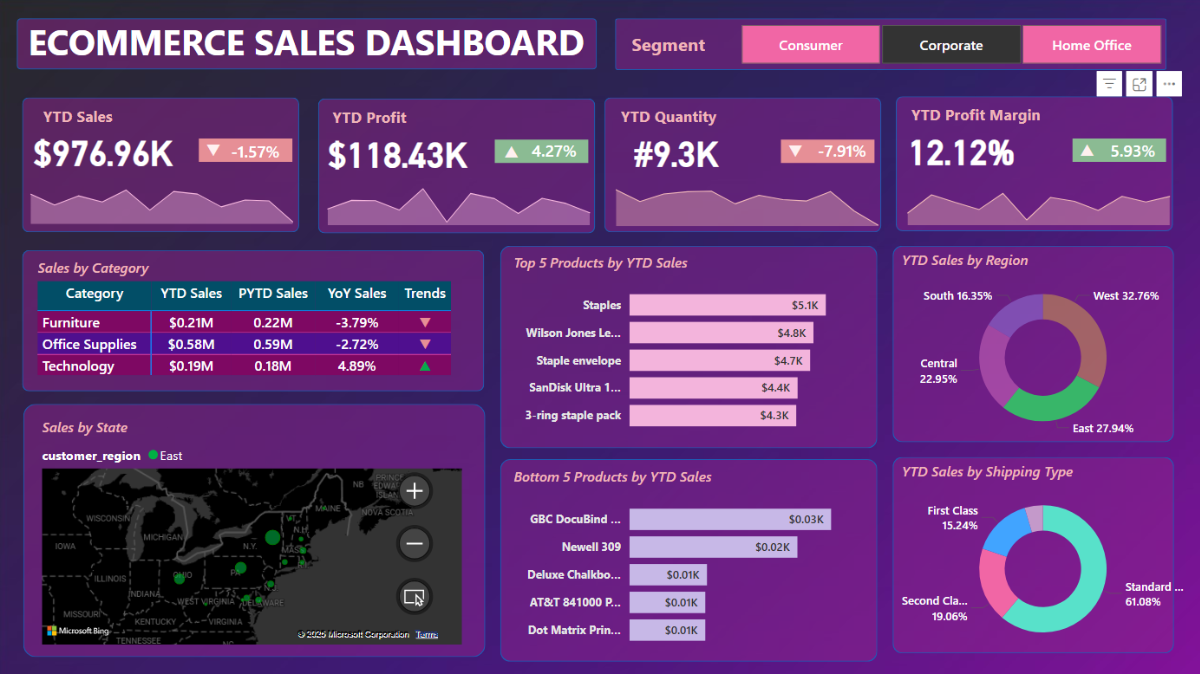

The page's visual inventory and layout, read from the dashboard file:
{"tool":"powerbi","page":{"name":"Page 1","canvas":[1280,720],"ordinal":0},"visuals":[{"type":"shape","box":[24.4,19.8,615.1,54.7],"z":0},{"type":"shape","box":[29.4,103.1,294.5,143.6],"z":1000},{"type":"card","fields":{"Values":["ecommerce_data.YTD Sales"]},"box":[24.5,135,182.8,50.3],"z":2000},{"type":"areaChart","fields":{"Category":["Calendar.Date.Variation.Date Hierarchy.Month"],"Y":["Sum(ecommerce_data.sales_per_order)"]},"box":[24.5,179.1,308,63.8],"z":3000},{"type":"shape","box":[217.2,147.2,99.4,24.5],"z":4000},{"type":"card","fields":{"Values":["ecommerce_data.YoY Sales"]},"box":[227,137.4,101.8,50.3],"z":5000},{"type":"card","fields":{"Values":["ecommerce_data.Sales Icon"]},"box":[214.7,136,35.6,50.3],"z":6000},{"type":"shape","box":[343.5,104.6,294.5,143.6],"z":7000},{"type":"card","fields":{"Values":["ecommerce_data.YTD Profit"]},"box":[336.2,136.2,182.5,50],"z":8000},{"type":"areaChart","fields":{"Category":["Calendar.Date.Variation.Date Hierarchy.Month"],"Y":["Sum(ecommerce_data.profit_per_order)"]},"box":[338.6,180.7,308,63.8],"z":9000},{"type":"shape","box":[531.3,148.8,99.4,24.5],"z":10000},{"type":"card","fields":{"Values":["ecommerce_data.YoY Profit"]},"box":[558.8,146.2,71.2,32.5],"z":11000},{"type":"card","fields":{"Values":["ecommerce_data.Profit Icon"]},"box":[531.1,147.9,35.7,28.6],"z":12000},{"type":"textbox","box":[363.1,109.2,139.9,29.4],"z":13000},{"type":"textbox","box":[30.7,13.5,609.8,66.3],"z":14000},{"type":"textbox","box":[46.6,106.7,99.4,39.3],"z":15000},{"type":"textbox","box":[354.5,108,108,39.3],"z":16000},{"type":"shape","box":[647.2,103.8,294.5,143.6],"z":17000},{"type":"card","fields":{"Values":["ecommerce_data.YTD Concateneted Qty"]},"box":[632.6,135.4,182.8,50.3],"z":18000},{"type":"shape","box":[835,147.9,99.4,24.5],"z":19000},{"type":"card","fields":{"Values":["ecommerce_data.YoY Qty"]},"box":[854.7,140.3,88.3,44.2],"z":20000},{"type":"card","fields":{"Values":["ecommerce_data.Qty Icon"]},"box":[832.5,136.7,35.6,50.3],"z":21000},{"type":"textbox","box":[659.6,107.2,130.1,39.3],"z":22000},{"type":"areaChart","fields":{"Category":["Calendar.Date.Variation.Date Hierarchy.Month"],"Y":["Sum(ecommerce_data.order_quantity)"]},"box":[644.9,182.1,308,63.8],"z":23000},{"type":"shape","box":[956,102.5,294.5,143.6],"z":24000},{"type":"card","fields":{"Values":["ecommerce_data.YTD Profit Margin"]},"box":[935,133.8,182.5,51.2],"z":25000},{"type":"shape","box":[1143.7,146.7,99.4,24.5],"z":26000},{"type":"card","fields":{"Values":["ecommerce_data.YoY Profit Margin"]},"box":[1163,140,89,44],"z":27000},{"type":"card","fields":{"Values":["ecommerce_data.Profit Margin Icon"]},"box":[1141.3,135.4,35.6,50.3],"z":28000},{"type":"textbox","box":[967.8,105.6,156.7,40],"z":29000},{"type":"areaChart","fields":{"Category":["Calendar.Date.Variation.Date Hierarchy.Month"],"Y":["ecommerce_data.Profit Margin"]},"box":[953.6,180.8,308,63.8],"z":30000},{"type":"shape","box":[30,265,490,150],"z":31000},{"type":"pivotTable","title":"Sales by Category","fields":{"Rows":["ecommerce_data.category_name"],"Values":["ecommerce_data.YTD Sales","ecommerce_data.PYTD Sales","ecommerce_data.YoY Sales","ecommerce_data.Sales Icon"]},"box":[41.2,273.8,463.8,130],"z":32000},{"type":"shape","box":[31.2,428.8,490,268.8],"z":33000},{"type":"map","title":"Sales by State","fields":{"Y":["us_state_long_lat_codes.latitude"],"X":["us_state_long_lat_codes.longitude"],"Size":["ecommerce_data.YTD Sales"],"Series":["ecommerce_data.customer_region"]},"box":[46.2,442.5,455,246.2],"z":34000},{"type":"shape","box":[537.2,261.2,400,215],"z":35000},{"type":"shape","box":[537.1,487.5,400,215],"z":36000},{"type":"barChart","title":"Top 5 Products by YTD Sales","fields":{"Category":["ecommerce_data.product_name"],"Y":["ecommerce_data.YTD Sales"]},"box":[546,267.5,385,202.5],"z":37000},{"type":"barChart","title":"Bottom 5 Products by YTD Sales","fields":{"Category":["ecommerce_data.product_name"],"Y":["ecommerce_data.YTD Sales"]},"box":[545.8,495,385,202.5],"z":38000},{"type":"shape","box":[952.5,261.2,298.8,208.8],"z":38001},{"type":"shape","box":[952.5,485,298.8,208.8],"z":38002},{"type":"donutChart","title":"YTD Sales by Region","fields":{"Category":["ecommerce_data.customer_region"],"Y":["ecommerce_data.YTD Sales"]},"box":[957.5,265,310,208.8],"z":38003},{"type":"donutChart","title":"YTD Sales by Shipping Type","fields":{"Y":["ecommerce_data.YTD Sales"],"Category":["ecommerce_data.shipping_type"]},"box":[957.5,490,310,208.8],"z":38004},{"type":"shape","box":[658.8,20,585,55],"z":38005},{"type":"slicer","fields":{"Values":["ecommerce_data.customer_segment"]},"box":[766.2,20,495,55],"z":38006},{"type":"textbox","box":[671.2,30,107.5,40],"z":38007}]}

Visuals, with their boxes in screenshot pixels (x1, y1, x2, y2), scaled from the page's 1280x720 canvas onto the 1200x675 screenshot:
shape: <bbox>23, 19, 600, 70</bbox>
shape: <bbox>28, 97, 304, 231</bbox>
card - ecommerce_data.YTD Sales: <bbox>23, 127, 194, 174</bbox>
areaChart - Calendar.Date.Variation.Date Hierarchy.Month x Sum(ecommerce_data.sales_per_order): <bbox>23, 168, 312, 228</bbox>
shape: <bbox>204, 138, 297, 161</bbox>
card - ecommerce_data.YoY Sales: <bbox>213, 129, 308, 176</bbox>
card - ecommerce_data.Sales Icon: <bbox>201, 128, 235, 175</bbox>
shape: <bbox>322, 98, 598, 233</bbox>
card - ecommerce_data.YTD Profit: <bbox>315, 128, 486, 175</bbox>
areaChart - Calendar.Date.Variation.Date Hierarchy.Month x Sum(ecommerce_data.profit_per_order): <bbox>317, 169, 606, 229</bbox>
shape: <bbox>498, 140, 591, 162</bbox>
card - ecommerce_data.YoY Profit: <bbox>524, 137, 591, 168</bbox>
card - ecommerce_data.Profit Icon: <bbox>498, 139, 531, 165</bbox>
textbox: <bbox>340, 102, 472, 130</bbox>
textbox: <bbox>29, 13, 600, 75</bbox>
textbox: <bbox>44, 100, 137, 137</bbox>
textbox: <bbox>332, 101, 434, 138</bbox>
shape: <bbox>607, 97, 883, 232</bbox>
card - ecommerce_data.YTD Concateneted Qty: <bbox>593, 127, 764, 174</bbox>
shape: <bbox>783, 139, 876, 162</bbox>
card - ecommerce_data.YoY Qty: <bbox>801, 132, 884, 173</bbox>
card - ecommerce_data.Qty Icon: <bbox>780, 128, 814, 175</bbox>
textbox: <bbox>618, 100, 740, 137</bbox>
areaChart - Calendar.Date.Variation.Date Hierarchy.Month x Sum(ecommerce_data.order_quantity): <bbox>605, 171, 893, 231</bbox>
shape: <bbox>896, 96, 1172, 231</bbox>
card - ecommerce_data.YTD Profit Margin: <bbox>877, 125, 1048, 173</bbox>
shape: <bbox>1072, 138, 1165, 160</bbox>
card - ecommerce_data.YoY Profit Margin: <bbox>1090, 131, 1174, 172</bbox>
card - ecommerce_data.Profit Margin Icon: <bbox>1070, 127, 1103, 174</bbox>
textbox: <bbox>907, 99, 1054, 136</bbox>
areaChart - Calendar.Date.Variation.Date Hierarchy.Month x ecommerce_data.Profit Margin: <bbox>894, 170, 1183, 229</bbox>
shape: <bbox>28, 248, 488, 389</bbox>
"Sales by Category" pivotTable: <bbox>39, 257, 473, 379</bbox>
shape: <bbox>29, 402, 489, 654</bbox>
"Sales by State" map: <bbox>43, 415, 470, 646</bbox>
shape: <bbox>504, 245, 879, 446</bbox>
shape: <bbox>504, 457, 879, 659</bbox>
"Top 5 Products by YTD Sales" barChart: <bbox>512, 251, 873, 441</bbox>
"Bottom 5 Products by YTD Sales" barChart: <bbox>512, 464, 873, 654</bbox>
shape: <bbox>893, 245, 1173, 441</bbox>
shape: <bbox>893, 455, 1173, 650</bbox>
"YTD Sales by Region" donutChart: <bbox>898, 248, 1188, 444</bbox>
"YTD Sales by Shipping Type" donutChart: <bbox>898, 459, 1188, 655</bbox>
shape: <bbox>618, 19, 1166, 70</bbox>
slicer - ecommerce_data.customer_segment: <bbox>718, 19, 1182, 70</bbox>
textbox: <bbox>629, 28, 730, 66</bbox>
